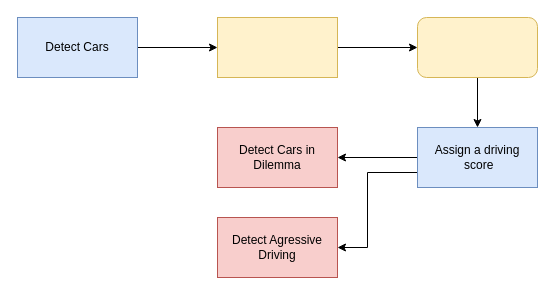
This 555x295 diagram has some shape labels left out. Here are the shapes that lost their labels. From the top down, the box of each, then its label:
(216, 16, 338, 78): Estimate Trajectory
(416, 16, 538, 78): Detect Cars that do not follow Trajectory
